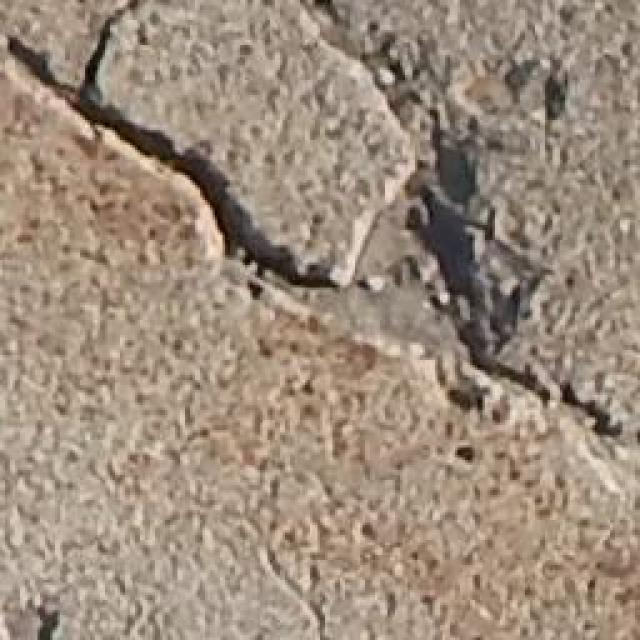concrete-crack: (0, 0, 639, 454)
